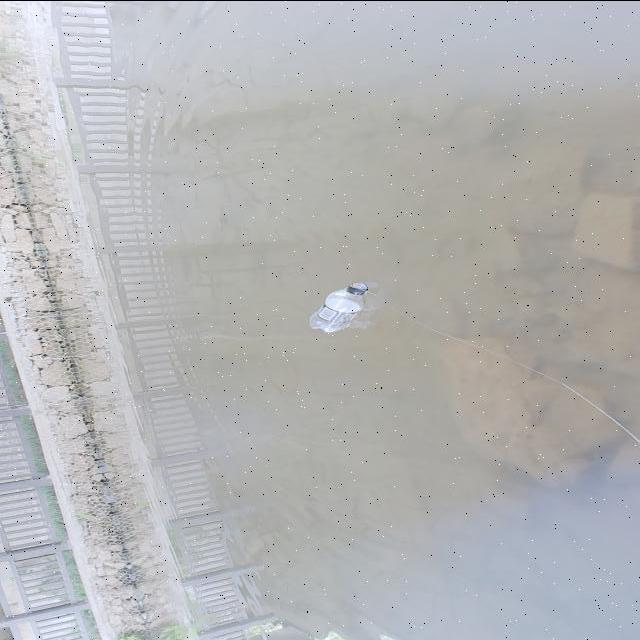Bottle: (304, 278, 372, 340)
